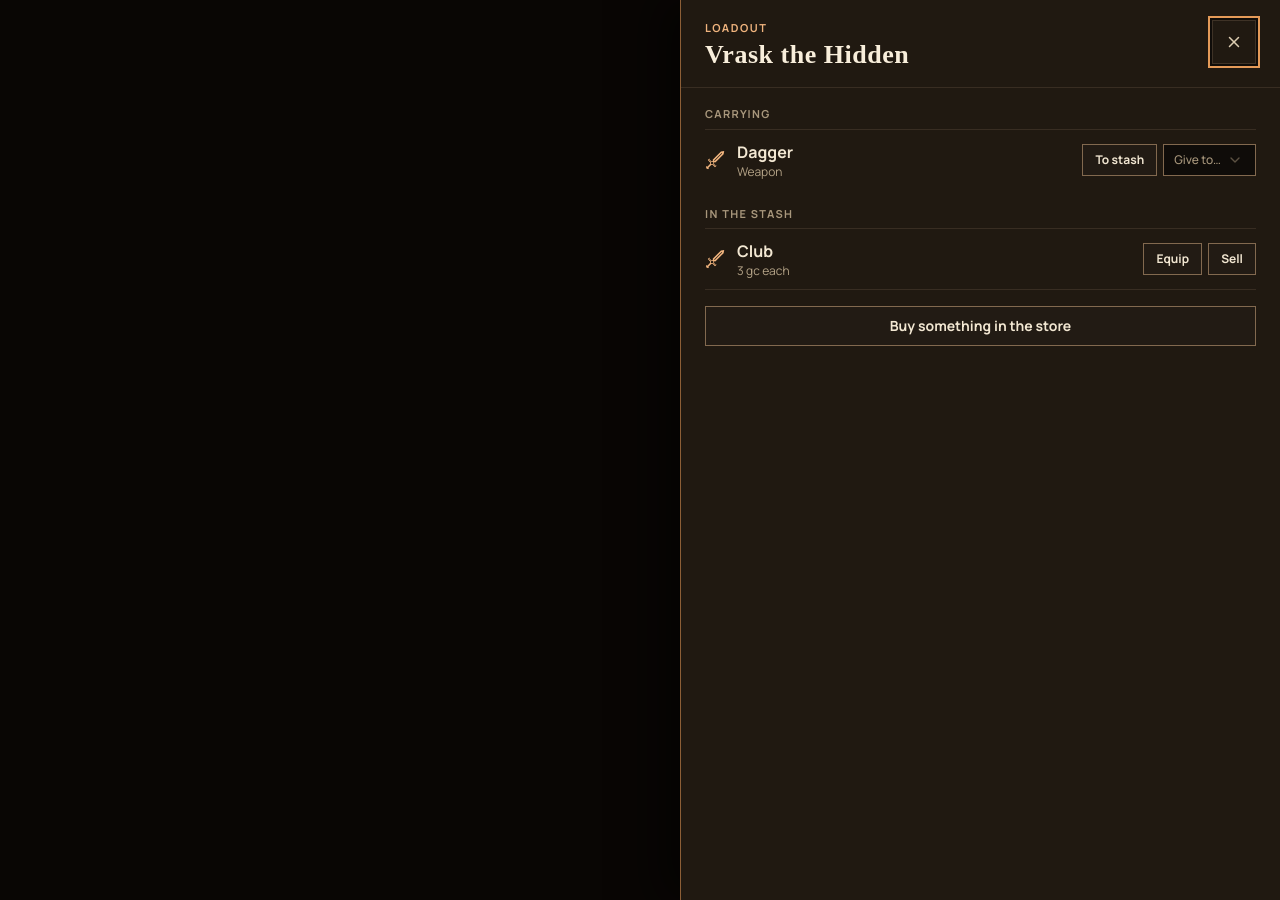
it: LoadoutPanel › shows a carried item's details, then a stash item's in their place
Click the button "Dagger Weapon" at (765, 152), box [705,140,1070,180]
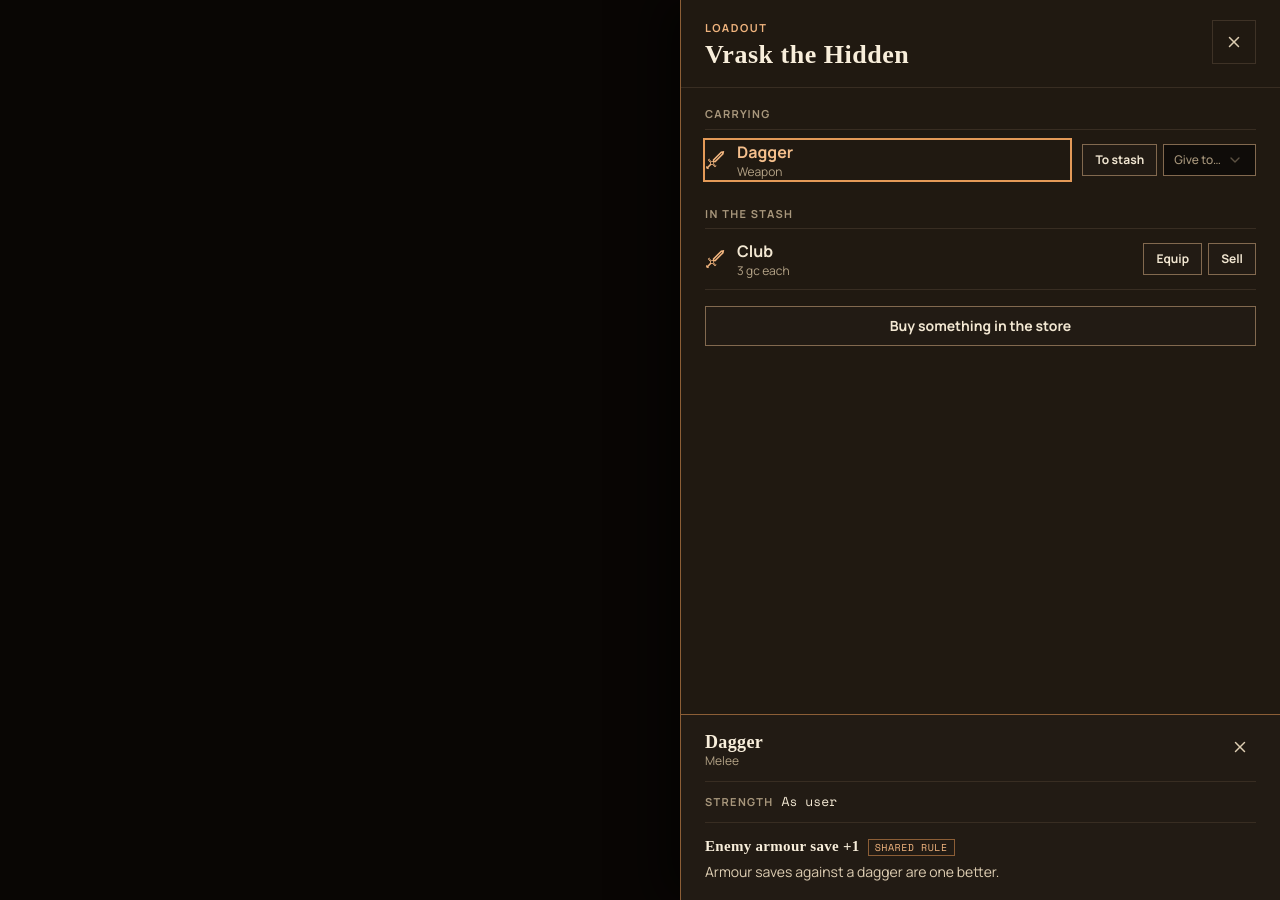
Expected: the text "Enemy armour save +1" is shown, [705,838,860,854]
Expected: the text "Armour saves against a dagger are one better." is shown, [705,862,999,881]
Click the button "Club 3 gc each" at (755, 251), box [705,239,1131,279]
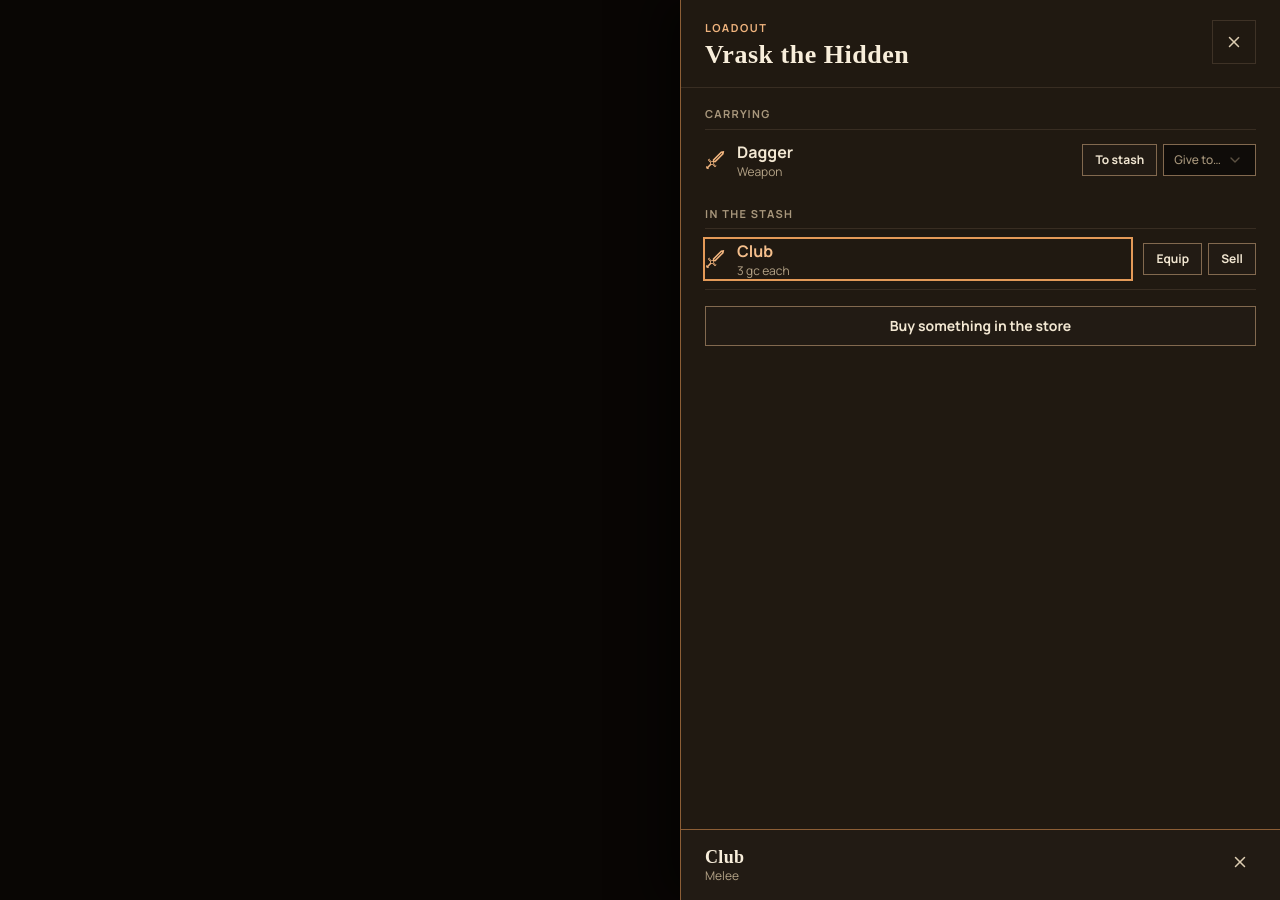
Expected: the element "Club" is shown, [705,846,1256,884]
